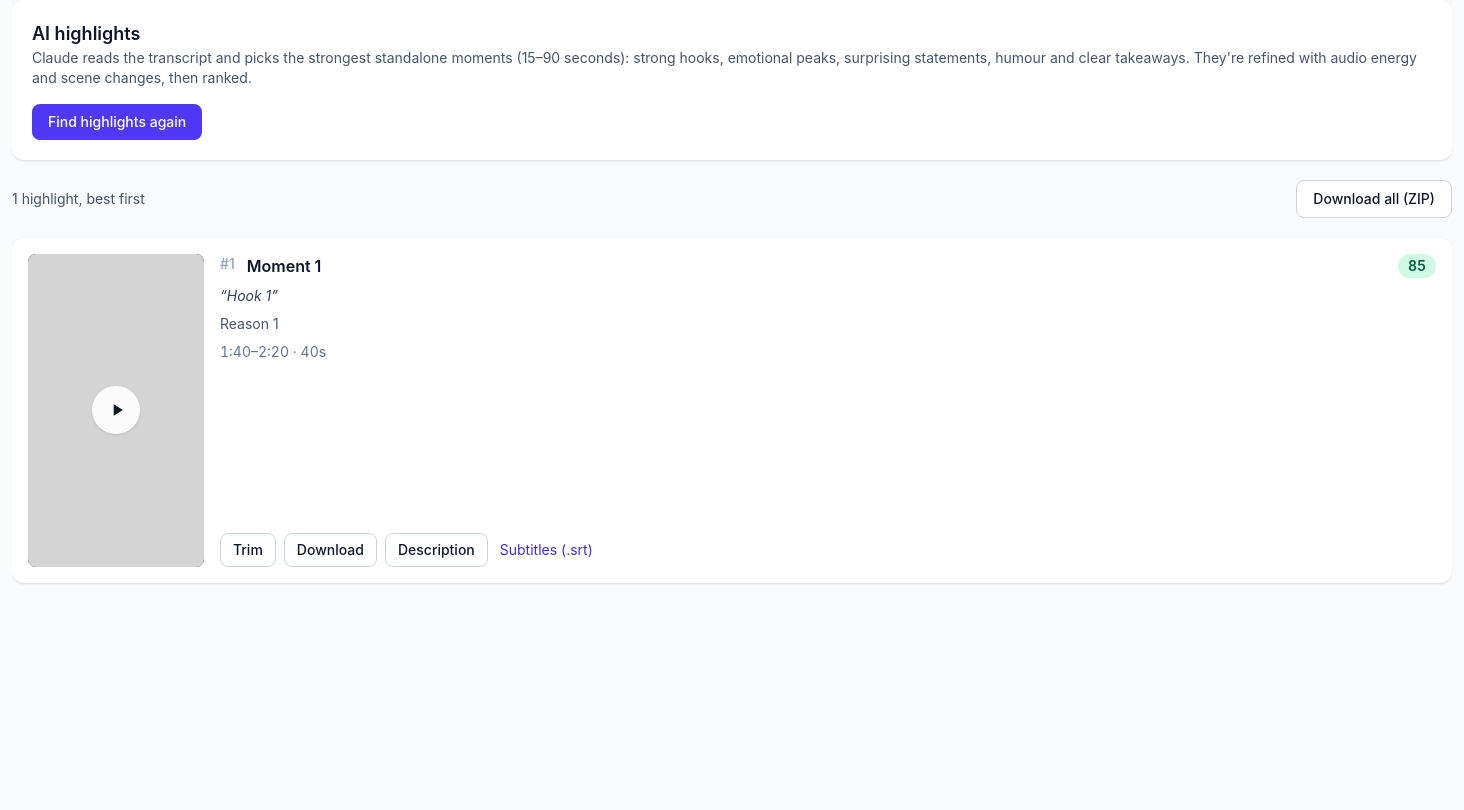
Scenario: HighlightsPanel › trims a clip and updates the card
Click the button "Trim" at (248, 550), box [220, 533, 276, 567]
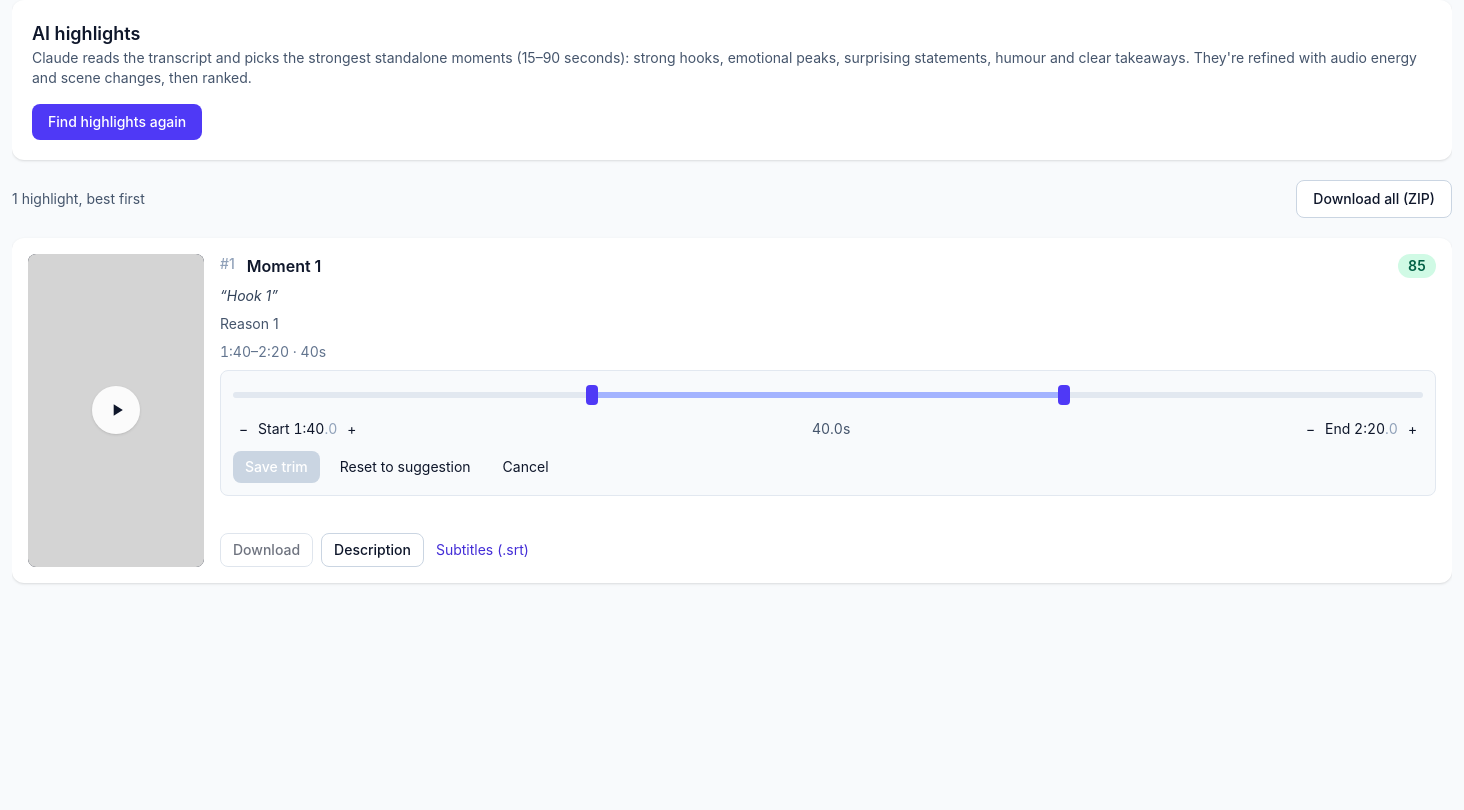
Expected: the button "Save trim" is disabled, [233, 451, 320, 483]
Click the button named "Start later" at (352, 429), box [341, 419, 362, 439]
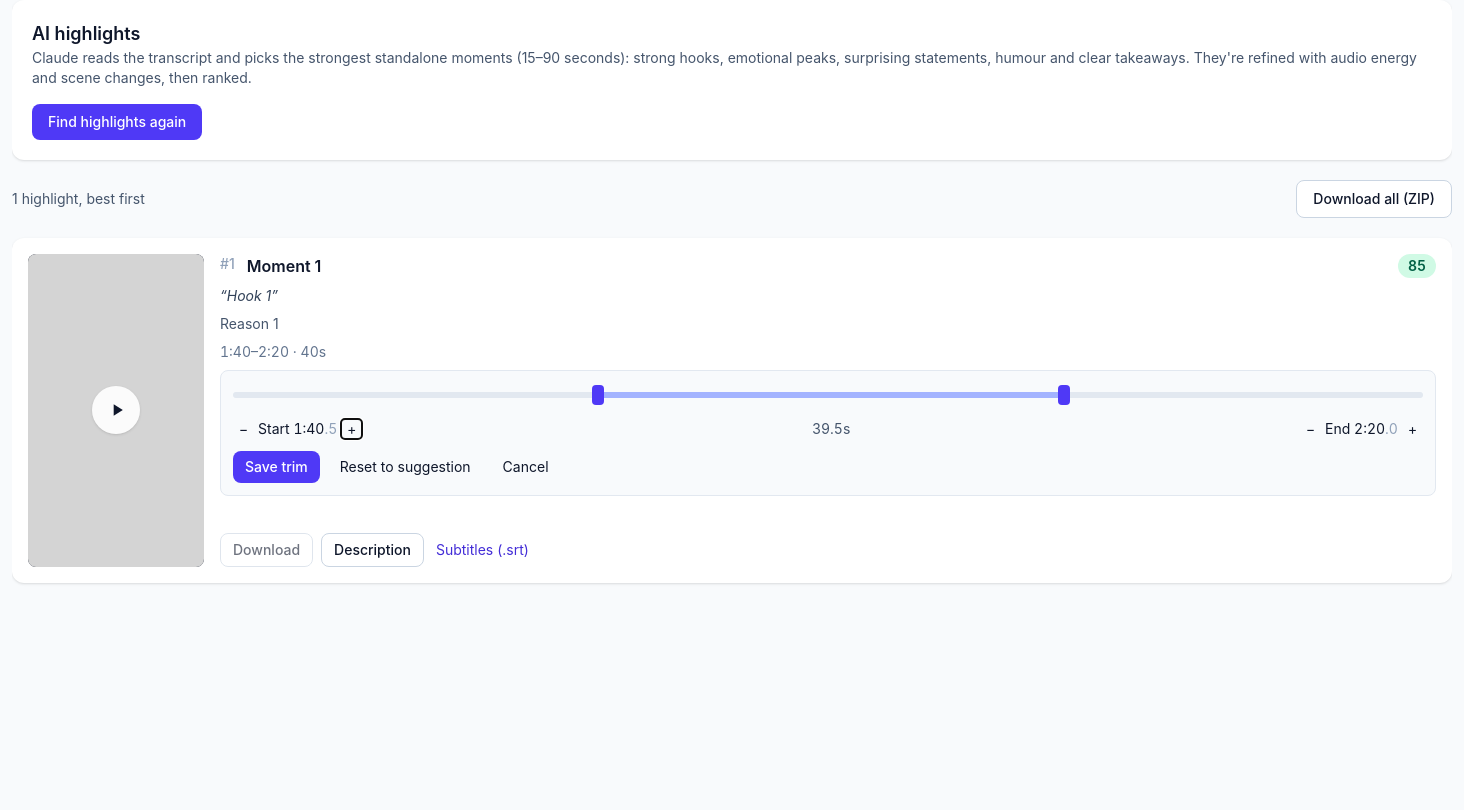
Click the button named "End earlier" at (1311, 429), box [1300, 419, 1321, 439]
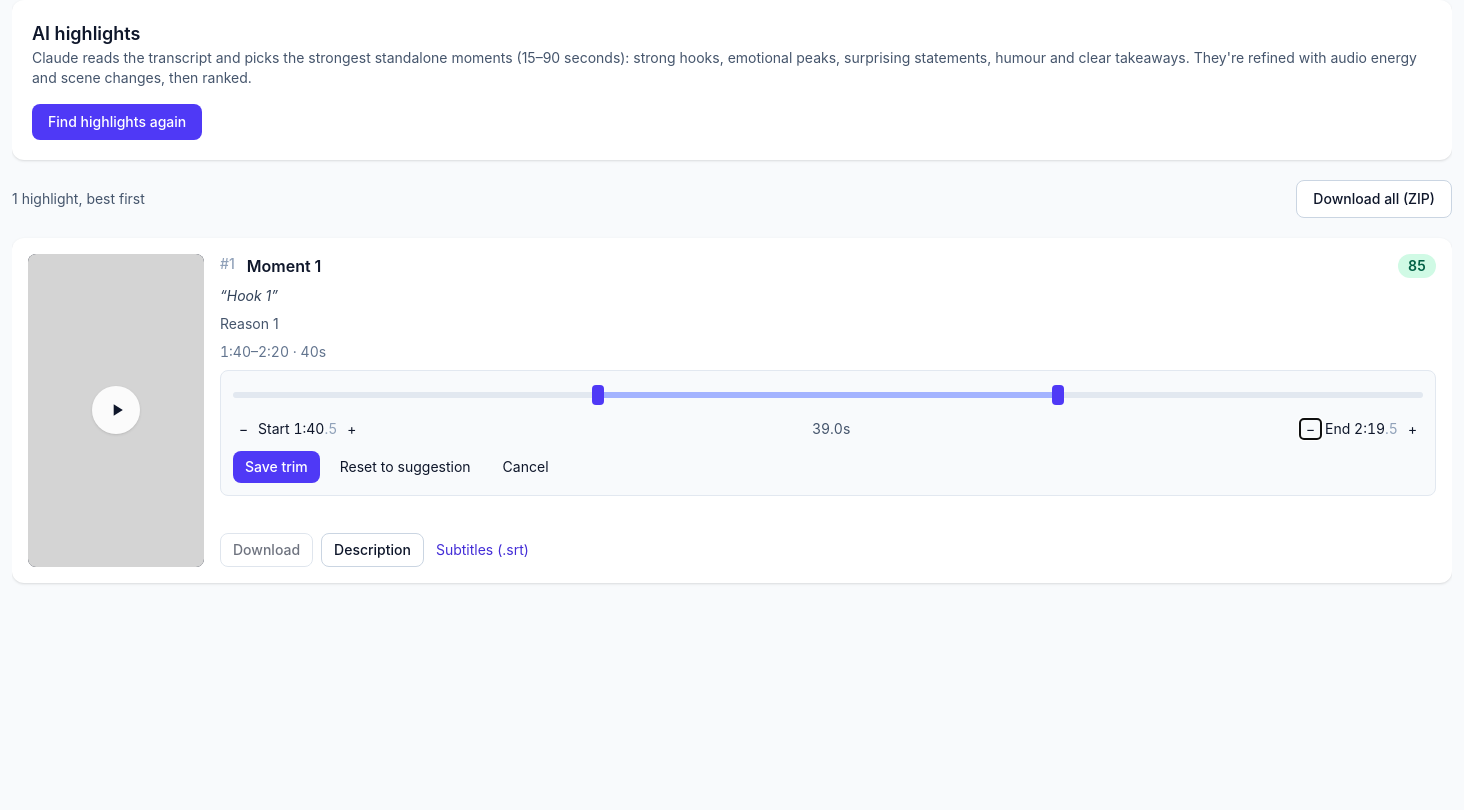
Click the button "Save trim" at (276, 467), box [233, 451, 320, 483]
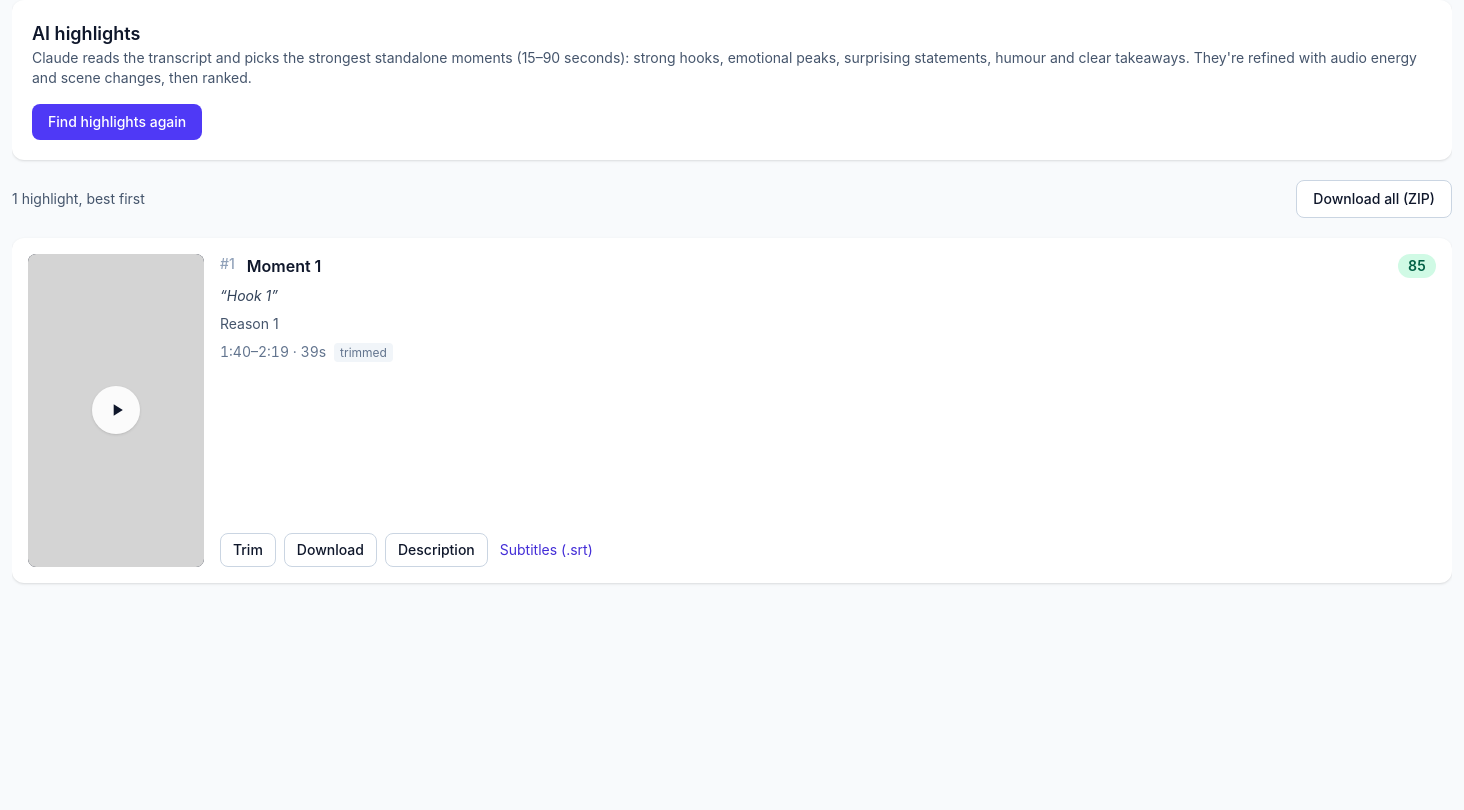
Expected: the text "trimmed" is shown, [334, 343, 393, 362]
Expected: the button "Save trim" is gone
